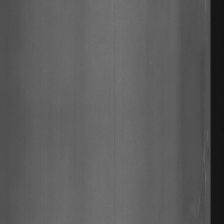silk_spot: (194, 131, 210, 198)
